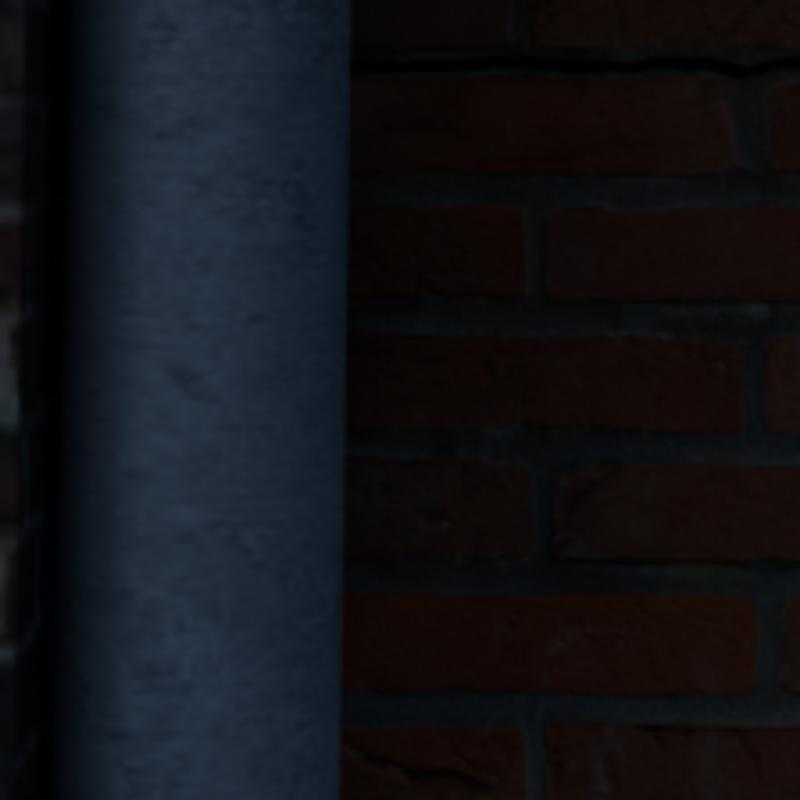pothole: (350, 57, 796, 75)
